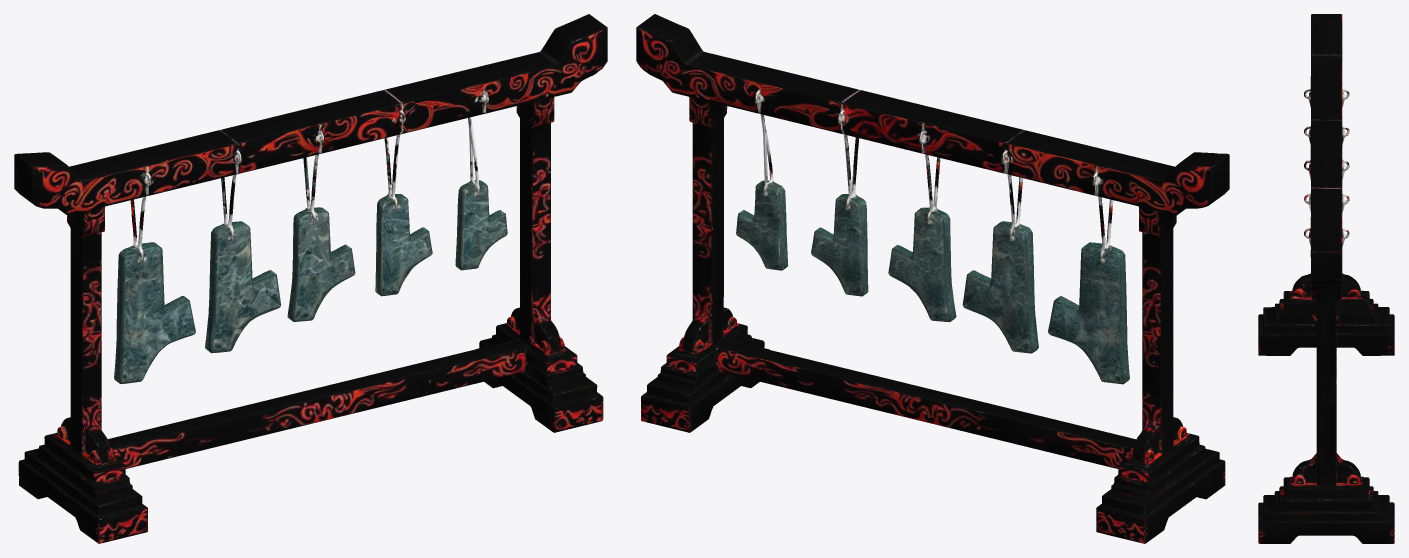
Rendered from qing.glb.
The picture shows the model from 3 angles, left to right: view 1: azimuth 30°, elevation 25°; view 2: azimuth 150°, elevation 25°; view 3: azimuth 270°, elevation 25°; orthographic projection. The views are drawn at different scales.
Parts seen in each view (by area): view 1: qing; view 2: qing; view 3: qing.
Part boxes in pixels (bbox=[...]): qing: bbox=[14, 14, 607, 543]; qing: bbox=[636, 14, 1229, 543]; qing: bbox=[1258, 14, 1394, 543].
Size of the model in its own units: 1 by 0.603 by 0.2423.
1 material, 1 textured.
